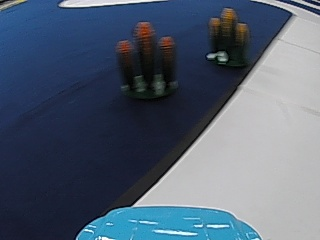corn: (116, 19, 175, 104), (205, 4, 250, 68)
